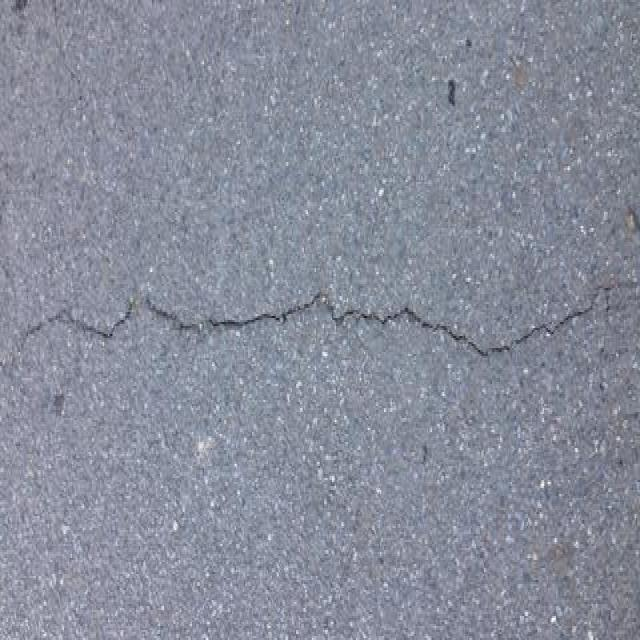Retak-Melintang: (151, 278, 600, 363), (17, 293, 138, 342)
